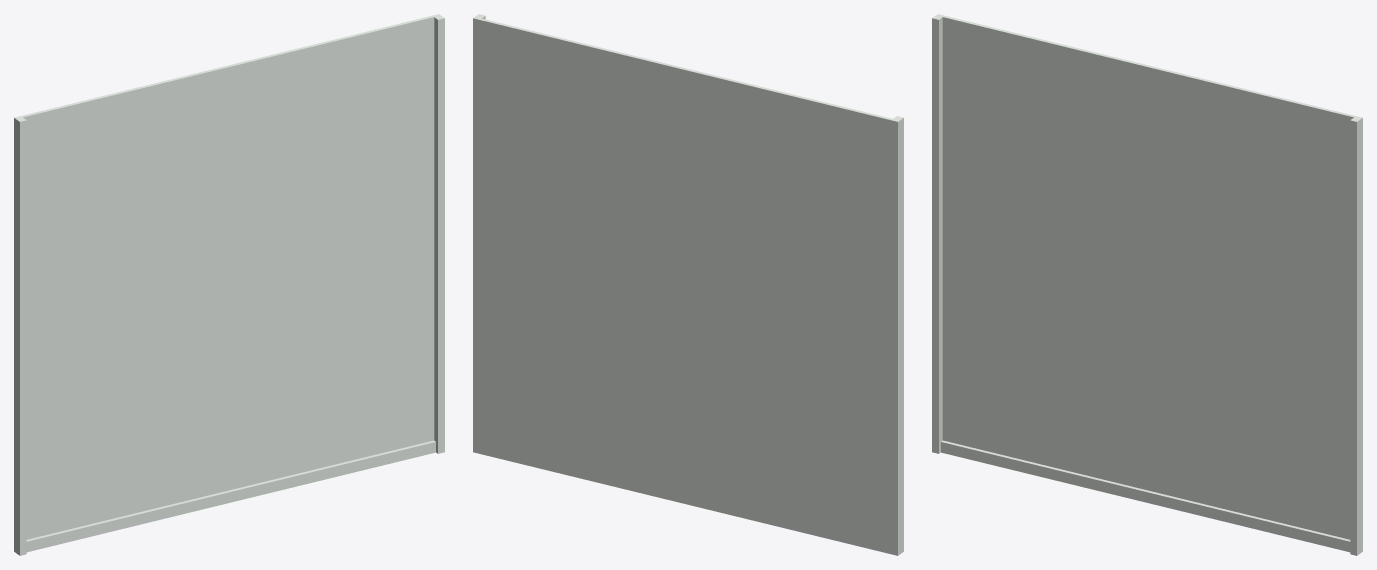
The model's file is whitewall.obj.
3 renders of one model, left to right at view 1: azimuth 30°, elevation 25°; view 2: azimuth 150°, elevation 25°; view 3: azimuth 330°, elevation 25°, orthographic.
Size of the model in its own units: 12.5 by 12.2 by 0.3.
Materials: 1 (1 with a texture image).
